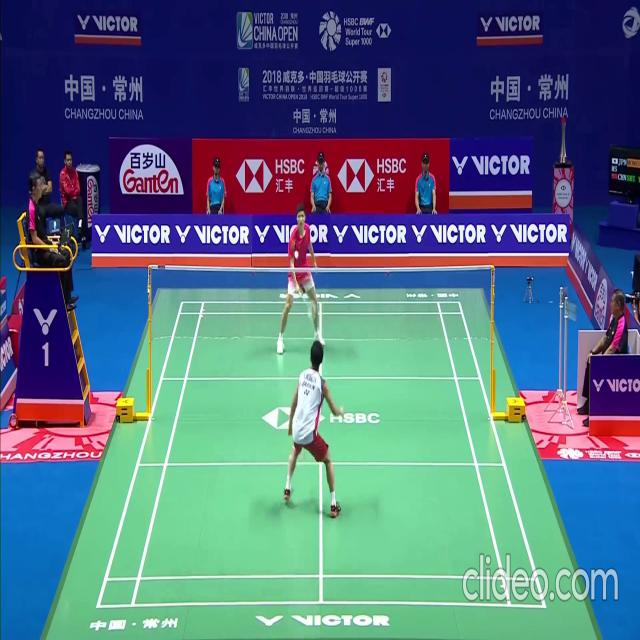Shuttlecock: (294, 250, 299, 258)
